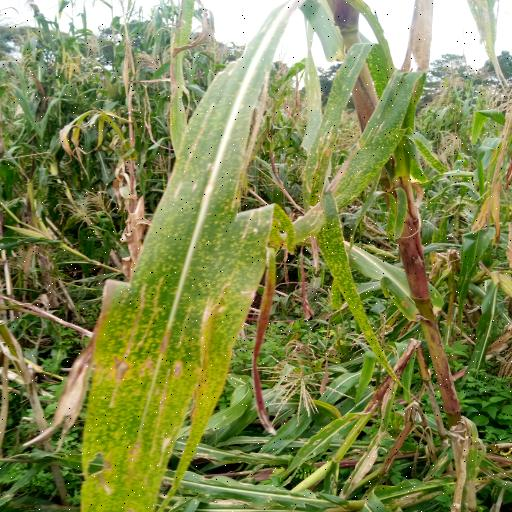Corn_Brown_Spots: (68, 0, 290, 512)
